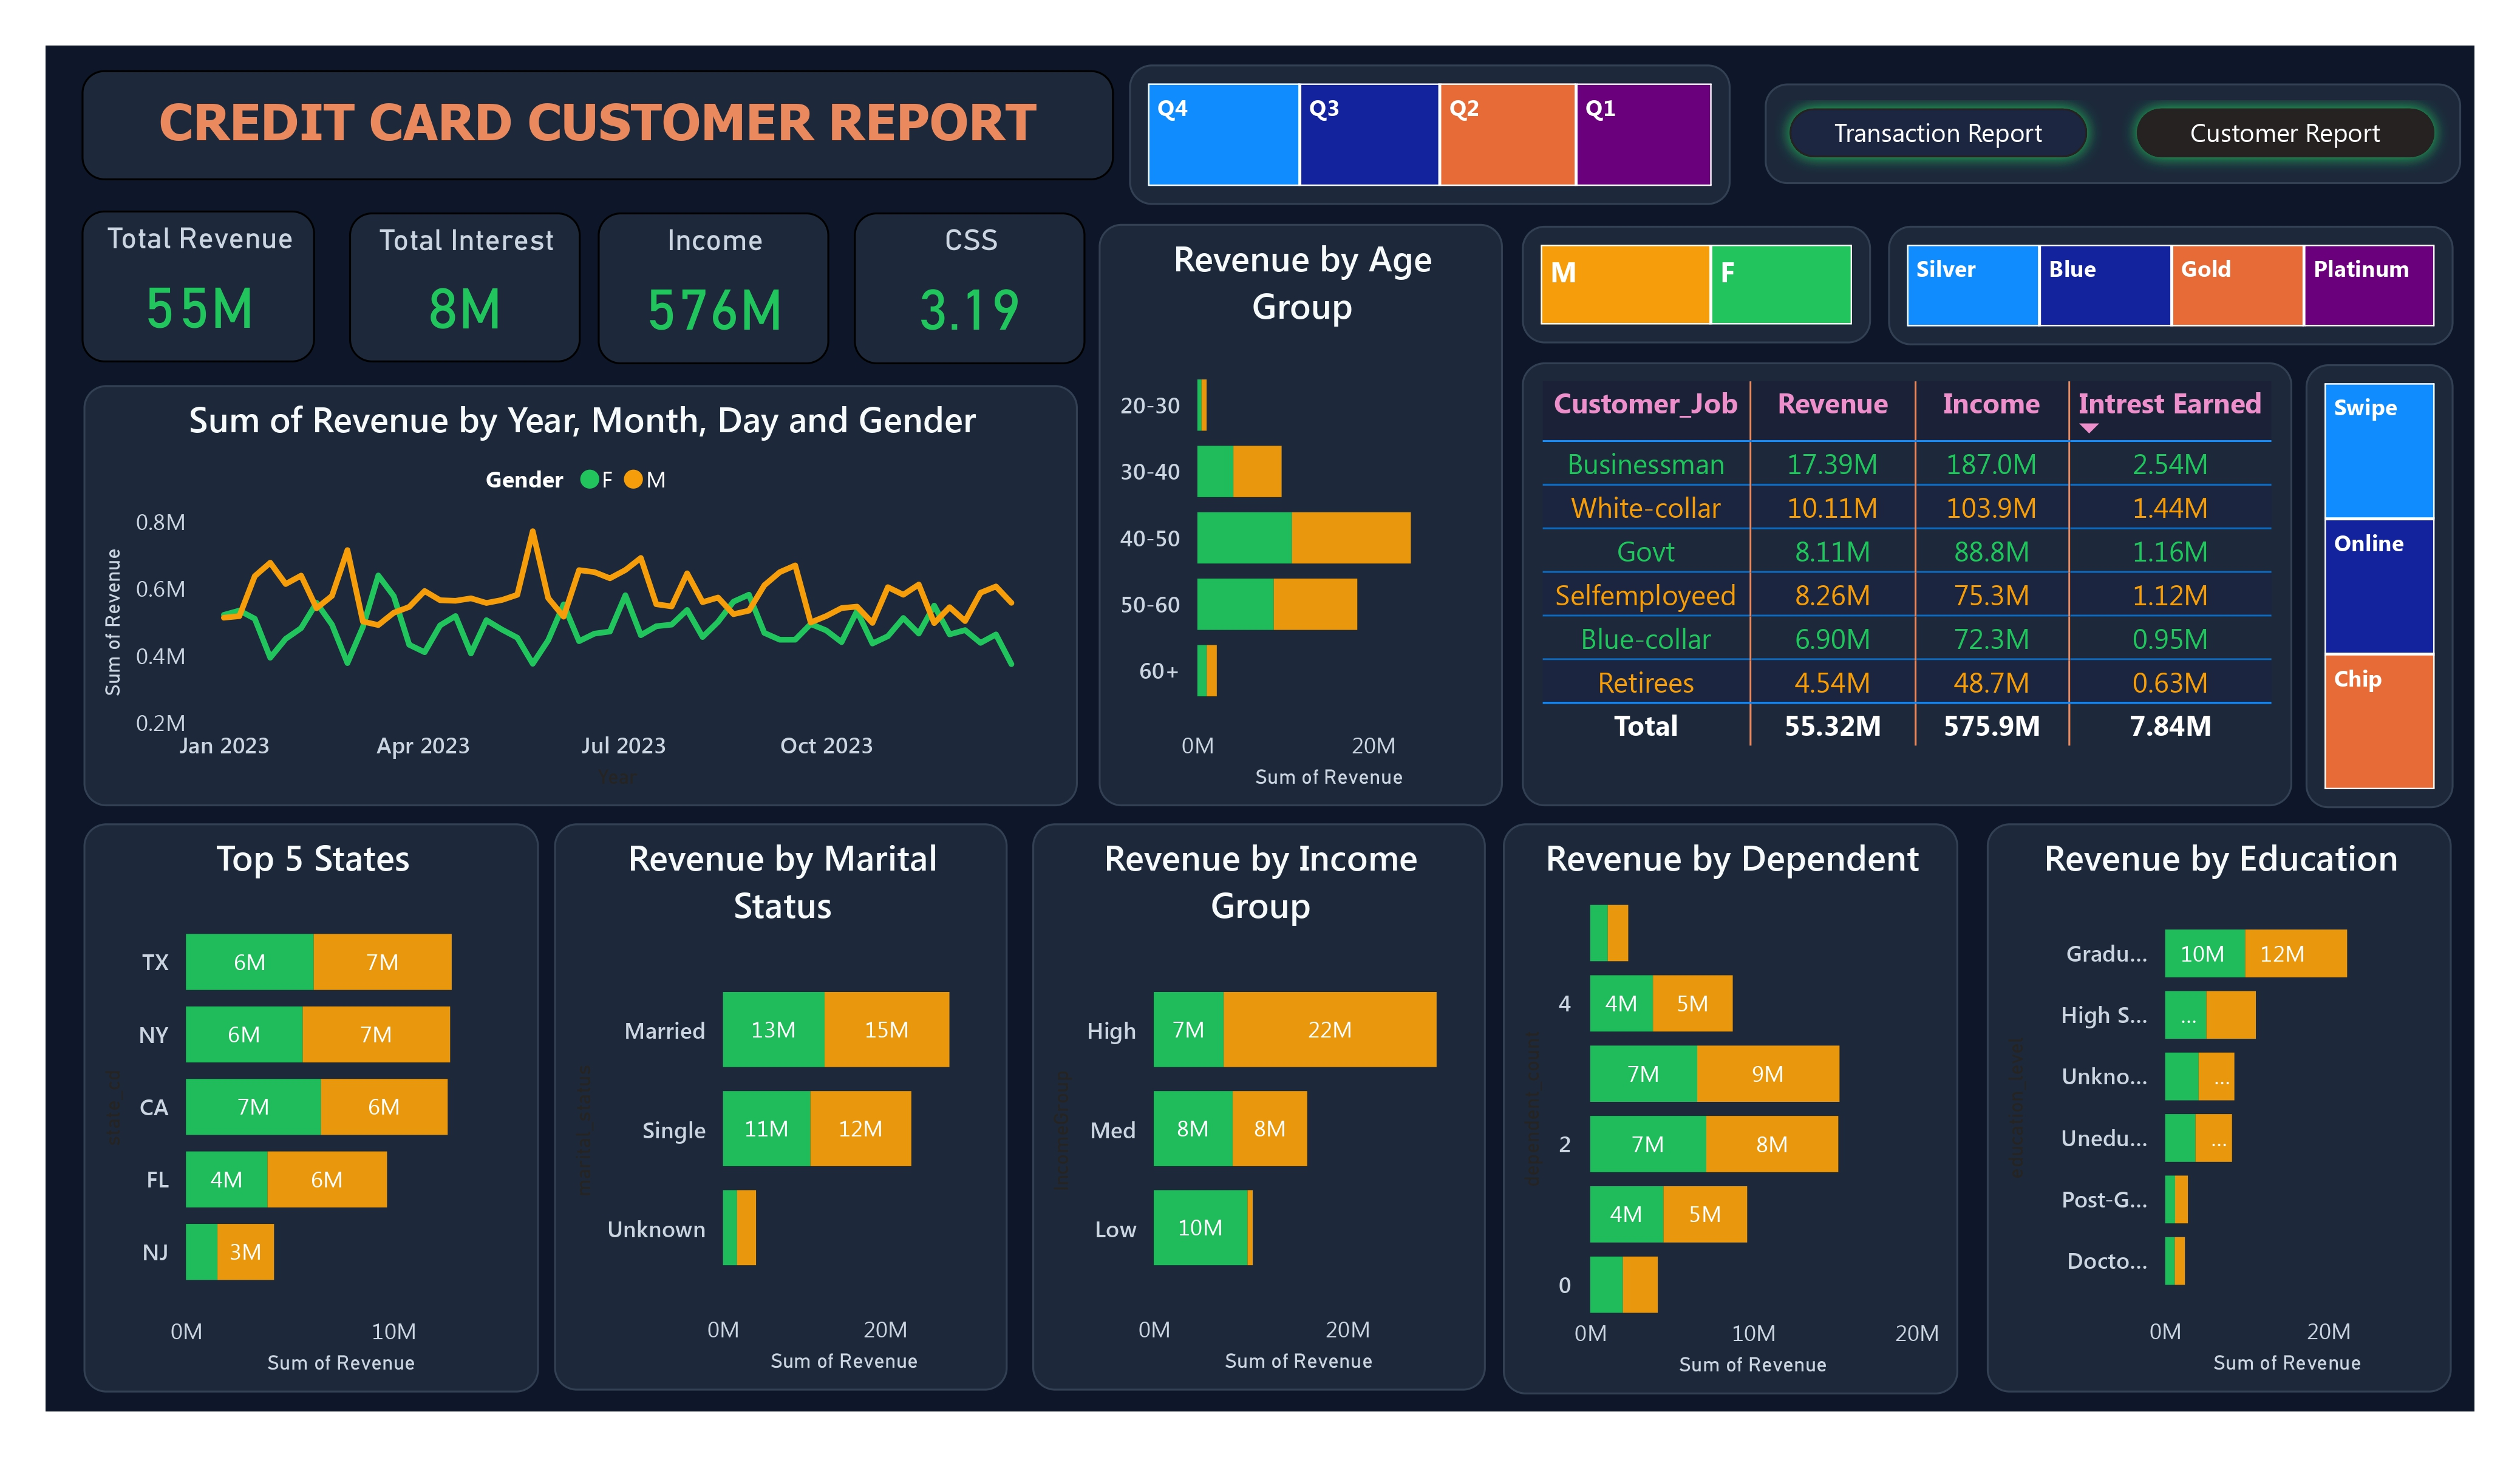

This screenshot's page, from the dashboard's own definition file:
{"tool":"powerbi","page":{"name":"Customer Report","canvas":[1280,720],"ordinal":1},"visuals":[{"type":"textbox","box":[19.2,12.5,543.3,58.7],"z":0},{"type":"barChart","title":" Revenue by Income Group","fields":{"Y":["Sum(public cc_detail.Revenue)"],"Category":["public cust_detail.IncomeGroup"],"Series":["public cust_detail.gender"]},"box":[519.7,409.6,239.7,299.6],"z":1000},{"type":"tableEx","fields":{"Values":["public cust_detail.customer_job","Sum(public cc_detail.Revenue)","Sum(public cust_detail.income)","Sum(public cc_detail.interest_earned)"]},"box":[778.1,167.2,405.5,233.6],"z":2000},{"type":"card","title":"Total Revenue","fields":{"Values":["Sum(public cc_detail.Revenue)"]},"box":[19.2,86.5,123.1,80.8],"z":3000},{"type":"card","title":"Income","fields":{"Values":["Sum(public cust_detail.income)"]},"box":[291,88,122.3,79.5],"z":4000},{"type":"card","title":"Total Interest","fields":{"Values":["Sum(public cc_detail.interest_earned)"]},"box":[159.6,88.5,122.1,78.8],"z":5000},{"type":"card","title":"CSS","fields":{"Values":["Avg(public cust_detail.cust_satisfaction_score)"]},"box":[425.5,88,122.3,79.5],"z":6000},{"type":"treemap","fields":{"Group":["public cc_detail.qtr"],"Values":["Avg(public cc_detail.client_num)"]},"box":[570.7,10.3,317.2,74.1],"z":7000},{"type":"treemap","fields":{"Values":["Avg(public cc_detail.client_num)"],"Group":["public cc_detail.card_category"]},"box":[971.1,95.3,297.7,62.5],"z":8000},{"type":"treemap","fields":{"Group":["public cust_detail.gender"],"Values":["Sum(public cc_detail.Revenue)"]},"box":[778.1,94.5,183.6,62.5],"z":9000},{"type":"barChart","title":" Revenue by Age Group","fields":{"Y":["Sum(public cc_detail.Revenue)"],"Category":["public cust_detail.AgeGroup"],"Series":["public cust_detail.gender"]},"box":[555.2,94.2,212.8,306.9],"z":10000},{"type":"barChart","title":" Revenue by Dependent","fields":{"Y":["Sum(public cc_detail.Revenue)"],"Category":["public cust_detail.dependent_count"],"Series":["public cust_detail.gender"]},"box":[768.3,409.6,239.4,301],"z":11000},{"type":"barChart","title":" Revenue by Education","fields":{"Y":["Sum(public cc_detail.Revenue)"],"Category":["public cust_detail.education_level"],"Series":["public cust_detail.gender"]},"box":[1023.1,409.6,245.2,300],"z":12000},{"type":"barChart","title":"Top 5 States","fields":{"Y":["Sum(public cc_detail.Revenue)"],"Category":["public cust_detail.state_cd"],"Series":["public cust_detail.gender"]},"box":[19.6,409.6,240,300.8],"z":13000},{"type":"barChart","title":" Revenue by Marital Status","fields":{"Y":["Sum(public cc_detail.Revenue)"],"Category":["public cust_detail.marital_status"],"Series":["public cust_detail.gender"]},"box":[267.8,409.6,239.7,299.6],"z":14000},{"type":"lineChart","fields":{"Y":["Sum(public cc_detail.Revenue)"],"Series":["public cust_detail.gender"],"Category":["public cc_detail.week_start_date.Variation.Date Hierarchy.Year","public cc_detail.week_start_date.Variation.Date Hierarchy.Month","public cc_detail.week_start_date.Variation.Date Hierarchy.Day"]},"box":[19.6,178.5,524.6,222.6],"z":15000},{"type":"treemap","fields":{"Values":["Avg(public cc_detail.client_num)"],"Group":["public cc_detail.use_chip"]},"box":[1190.6,168,78.1,233.6],"z":16000},{"type":"pageNavigator","box":[905.8,20.2,367.3,52.9],"z":17000}]}

Visuals, with their boxes in screenshot pixels (x1, y1, x2, y2):
textbox: <bbox>82, 69, 1113, 181</bbox>
" Revenue by Income Group" barChart: <bbox>1032, 823, 1486, 1391</bbox>
tableEx - public cust_detail.customer_job x Sum(public cc_detail.Revenue): <bbox>1522, 363, 2292, 806</bbox>
"Total Revenue" card: <bbox>82, 209, 316, 363</bbox>
"Income" card: <bbox>598, 212, 830, 363</bbox>
"Total Interest" card: <bbox>349, 214, 580, 363</bbox>
"CSS" card: <bbox>853, 212, 1085, 363</bbox>
treemap - public cc_detail.qtr x Avg(public cc_detail.client_num): <bbox>1128, 65, 1731, 206</bbox>
treemap - Avg(public cc_detail.client_num) x public cc_detail.card_category: <bbox>1888, 226, 2453, 345</bbox>
treemap - public cust_detail.gender x Sum(public cc_detail.Revenue): <bbox>1522, 225, 1870, 344</bbox>
" Revenue by Age Group" barChart: <bbox>1099, 224, 1503, 806</bbox>
" Revenue by Dependent" barChart: <bbox>1503, 823, 1958, 1394</bbox>
" Revenue by Education" barChart: <bbox>1987, 823, 2452, 1391</bbox>
"Top 5 States" barChart: <bbox>83, 823, 538, 1393</bbox>
" Revenue by Marital Status" barChart: <bbox>554, 823, 1009, 1391</bbox>
lineChart - Sum(public cc_detail.Revenue) x public cust_detail.gender: <bbox>83, 384, 1078, 806</bbox>
treemap - Avg(public cc_detail.client_num) x public cc_detail.use_chip: <bbox>2305, 364, 2453, 807</bbox>
pageNavigator: <bbox>1765, 84, 2461, 184</bbox>
